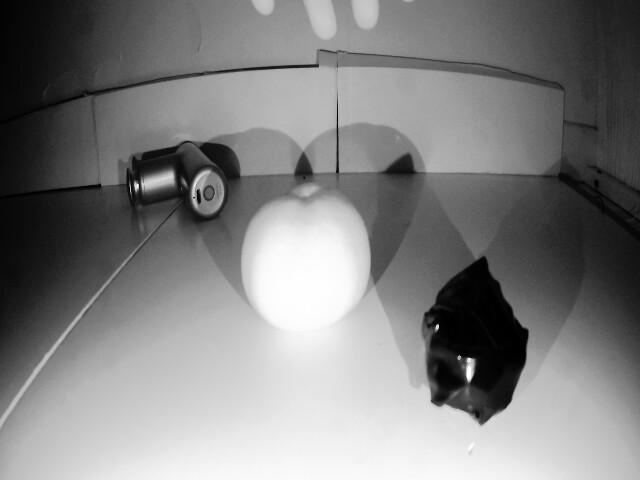silver: (427, 258, 525, 435)
